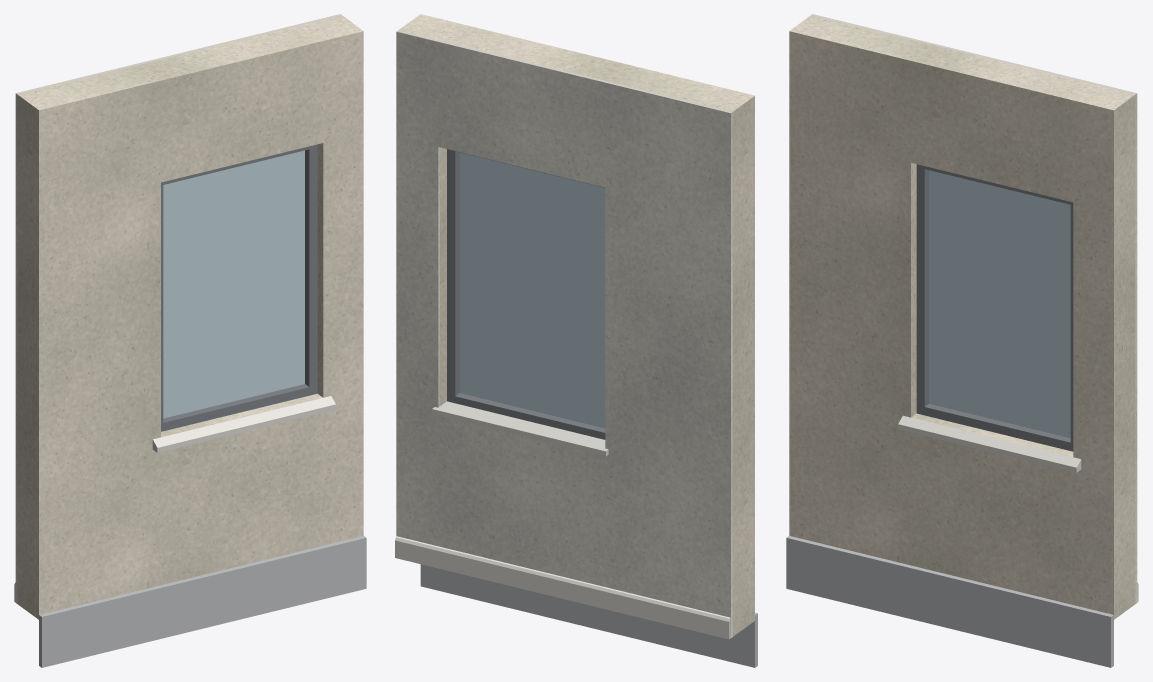
File: t_cwin_l.glb
The picture shows the model from 3 angles, left to right: view 1: azimuth 30°, elevation 25°; view 2: azimuth 150°, elevation 25°; view 3: azimuth 330°, elevation 25°; orthographic projection. The views are drawn at different scales.
Parts seen in each view (by area): view 1: t_cwin_l_render, t_cwin_l_glass, t_cwin_l_band, t_cwin_l_frame, t_cwin_l_cill, t_cwin_l_plaster; view 2: t_cwin_l_plaster, t_cwin_l_glass, t_cwin_l_render, t_cwin_l_band, t_cwin_l_trim, t_cwin_l_frame, t_cwin_l_cill; view 3: t_cwin_l_render, t_cwin_l_glass, t_cwin_l_band, t_cwin_l_frame, t_cwin_l_cill, t_cwin_l_plaster.
Boxes of the visible parts, x1,y1,x2,y2 form: t_cwin_l_render: [17, 15, 363, 619]; t_cwin_l_glass: [163, 150, 304, 418]; t_cwin_l_band: [39, 535, 366, 667]; t_cwin_l_frame: [161, 144, 317, 431]; t_cwin_l_cill: [152, 396, 335, 452]; t_cwin_l_plaster: [15, 14, 341, 603]; t_cwin_l_plaster: [396, 30, 732, 637]; t_cwin_l_glass: [459, 152, 605, 428]; t_cwin_l_render: [398, 14, 754, 636]; t_cwin_l_band: [420, 564, 757, 667]; t_cwin_l_trim: [395, 536, 730, 639]; t_cwin_l_frame: [447, 149, 605, 439]; t_cwin_l_cill: [432, 401, 608, 456]; t_cwin_l_render: [789, 15, 1135, 619]; t_cwin_l_glass: [929, 170, 1070, 438]; t_cwin_l_band: [786, 535, 1113, 667]; t_cwin_l_frame: [916, 164, 1073, 451]; t_cwin_l_cill: [898, 415, 1081, 472]; t_cwin_l_plaster: [811, 14, 1137, 603].
Bounding box in the file's own units: 2 × 3.27 × 0.33.
7 materials, 2 textured.
